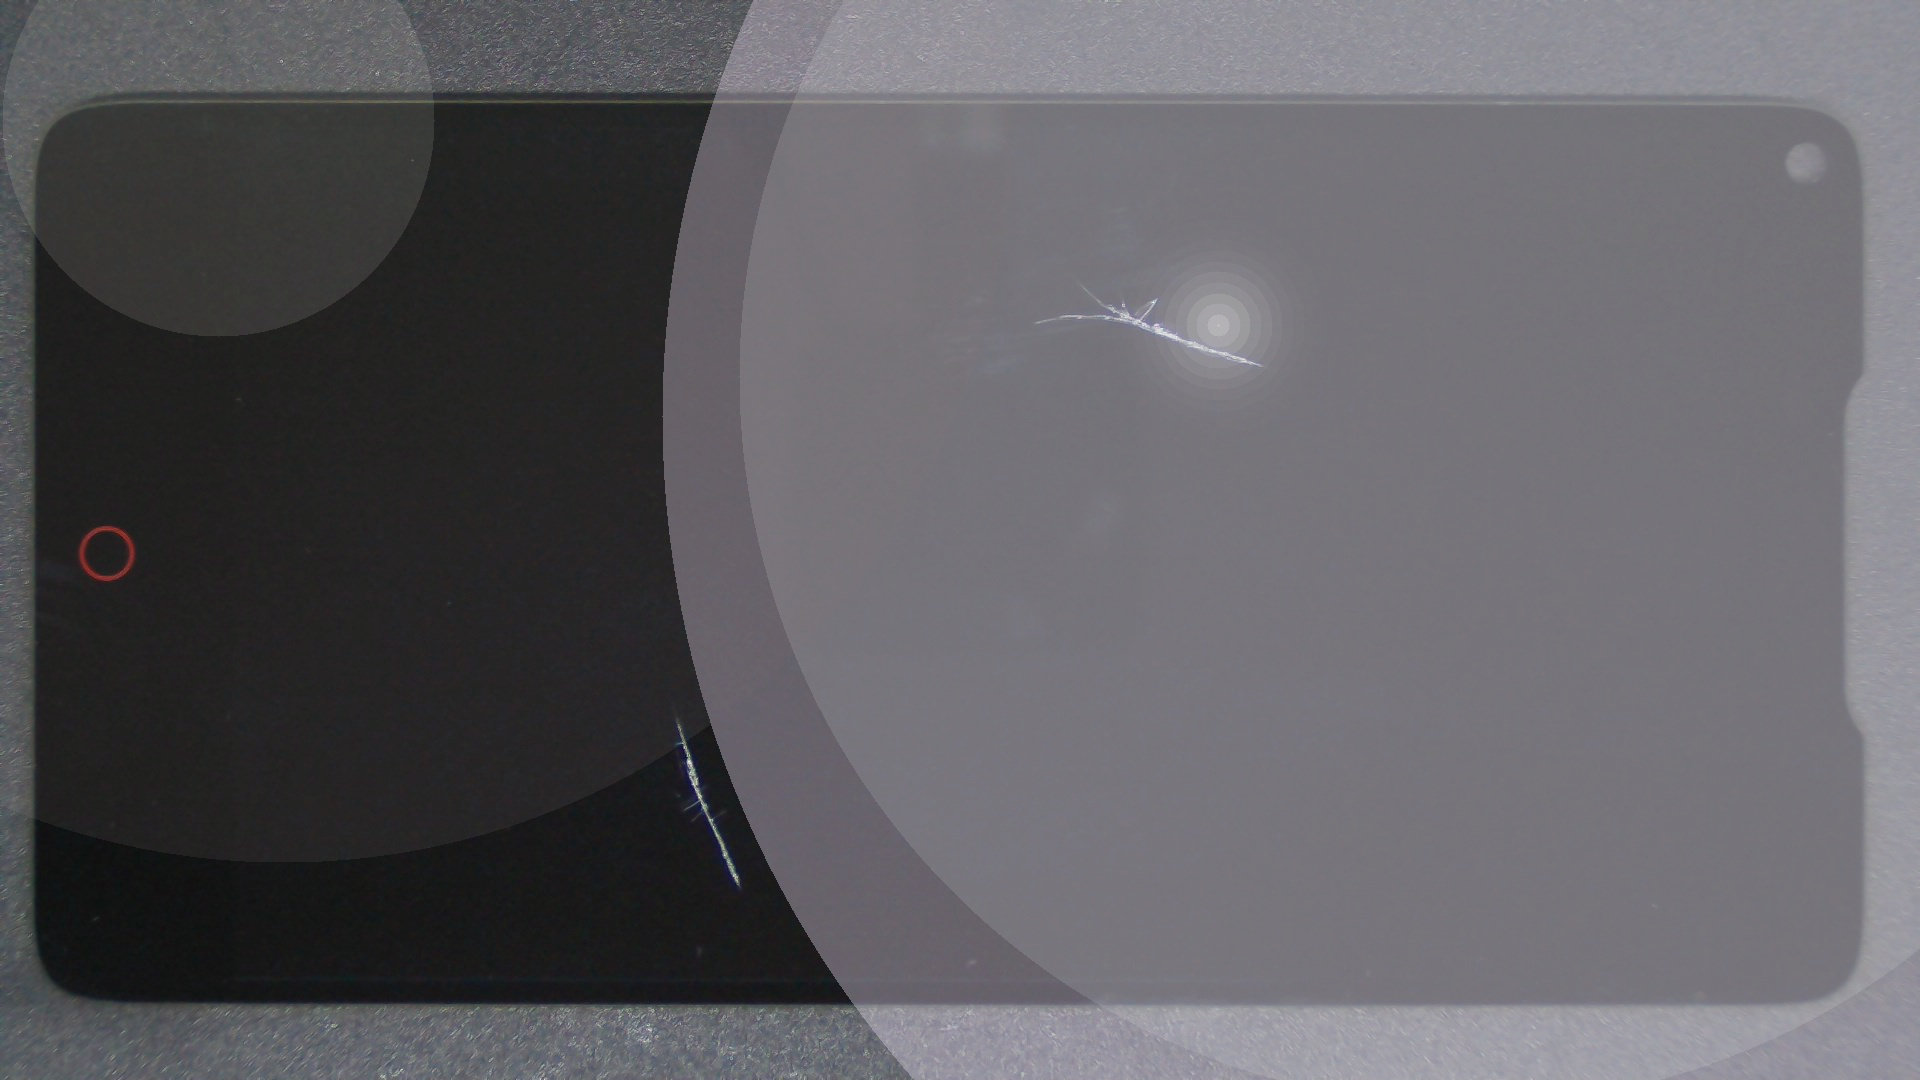oil: (340, 357, 1015, 1077), (541, 141, 1619, 425)
